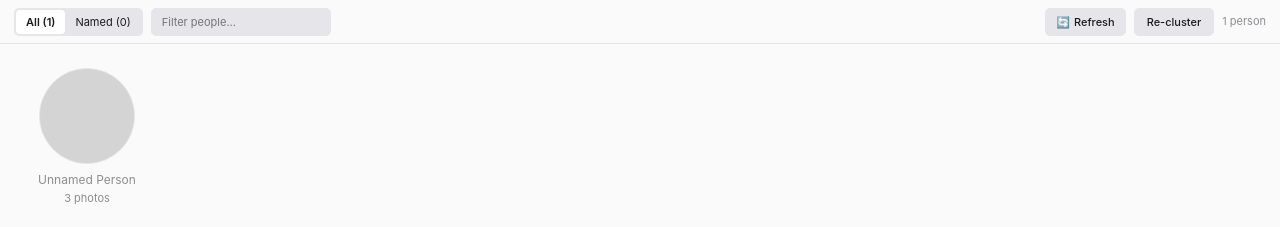
Test: PeopleGrid component › allows inline tap-to-rename and submits rename request
Note: Click to rename
Click the text "Unnamed Person": [87, 180] box [38,172,136,189]
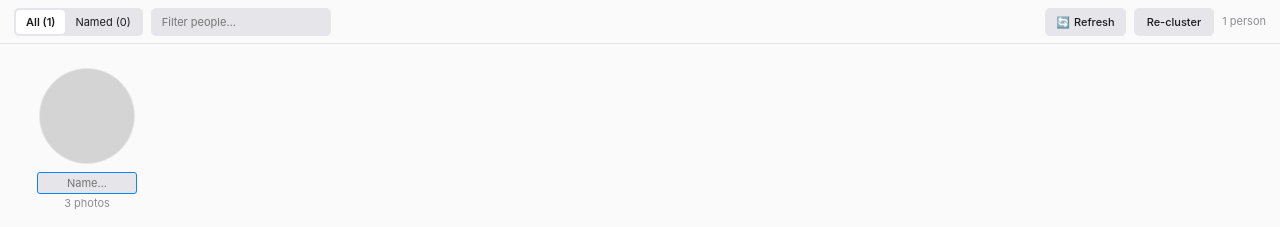
Expected: the field is shown
Note: Type new name
In the field: [87, 183] box [37,172,137,194], type "Bob"
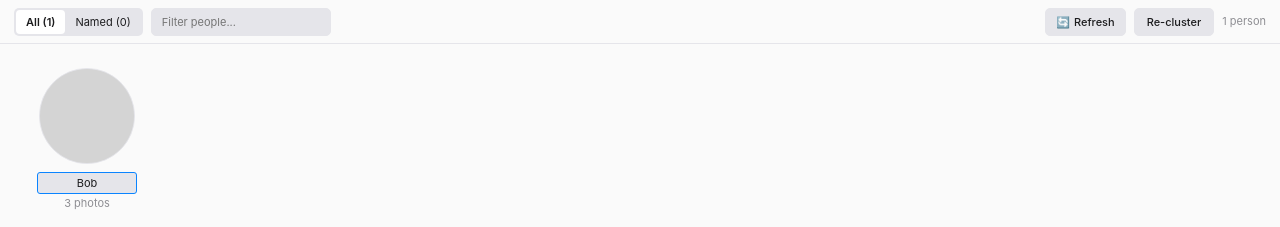
Note: Submit by pressing Enter
Press Enter in the field, box [37,172,137,194]
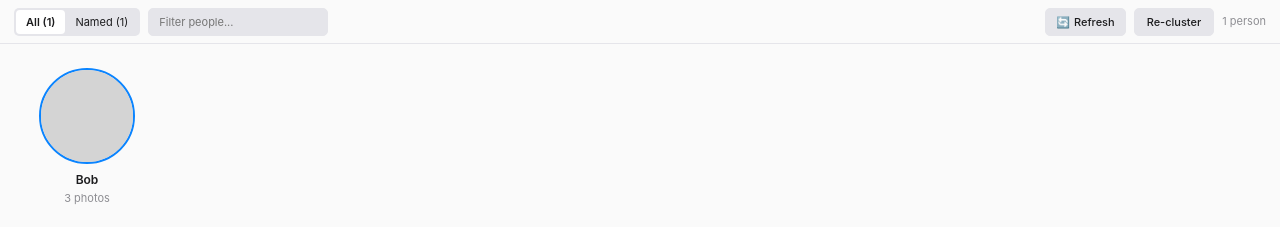
Expected: the text "Bob" is shown, [76,172,98,189]
